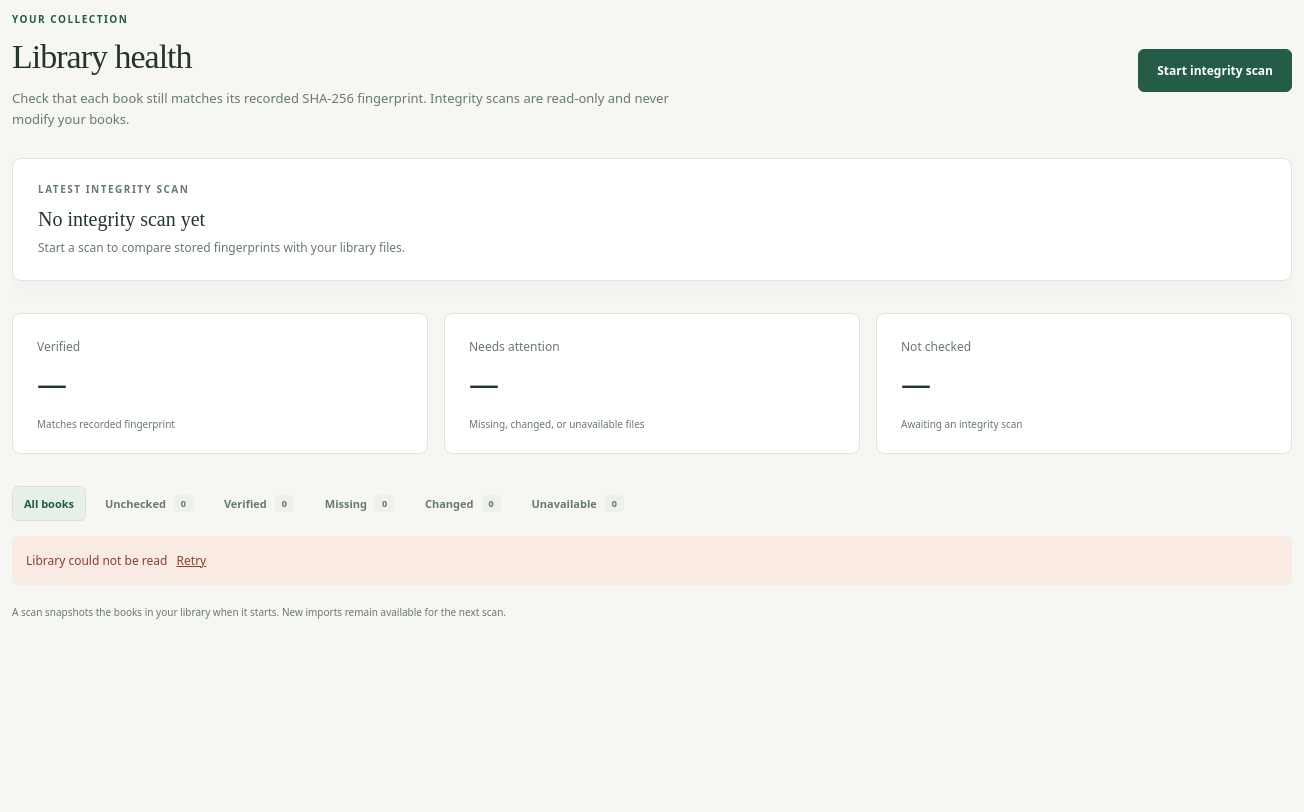
Test: shows a recoverable library load error and retries the request
Expected: the message shows "Library could not be read", x1=26 y1=552 x2=167 y2=569
Click the button "Retry": (191, 560) x1=171 y1=550 x2=212 y2=571
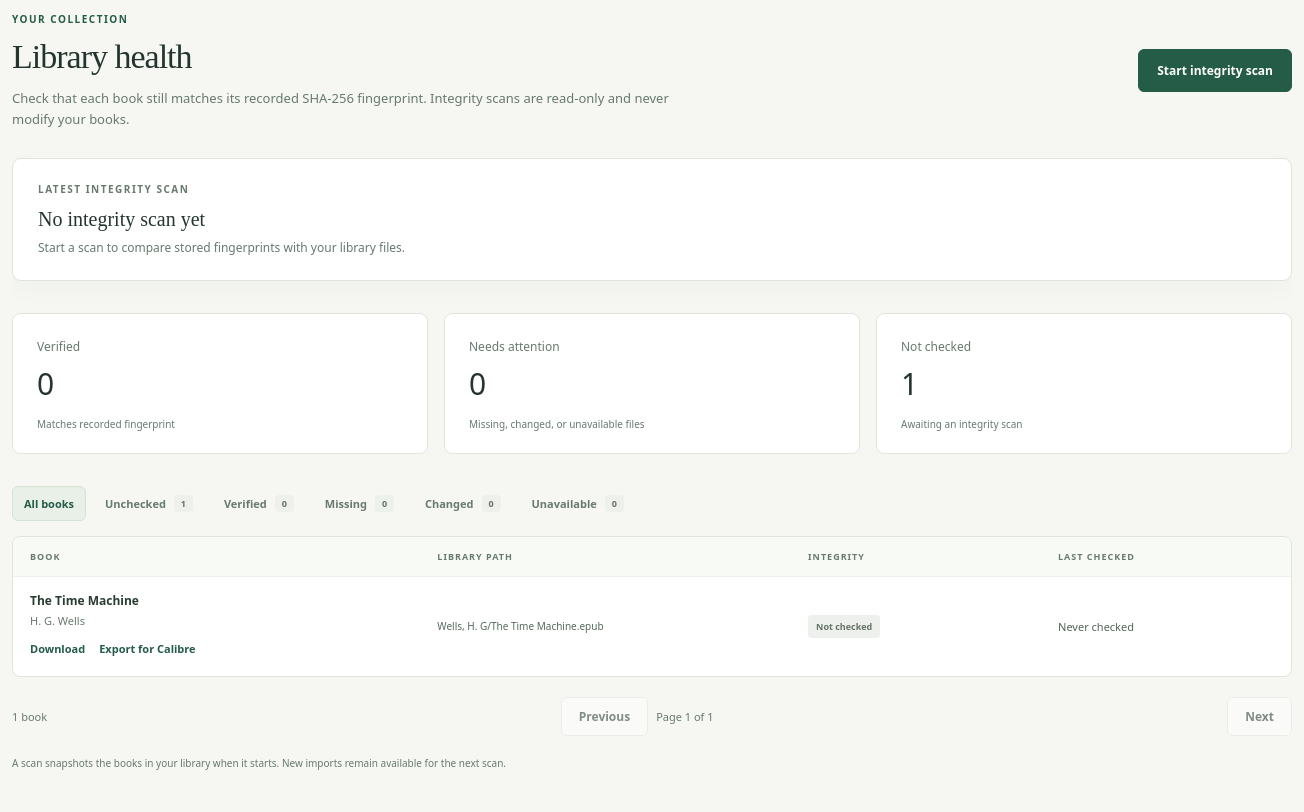
Now the text "The Time Machine" is shown, box x1=30 y1=592 x2=139 y2=609
